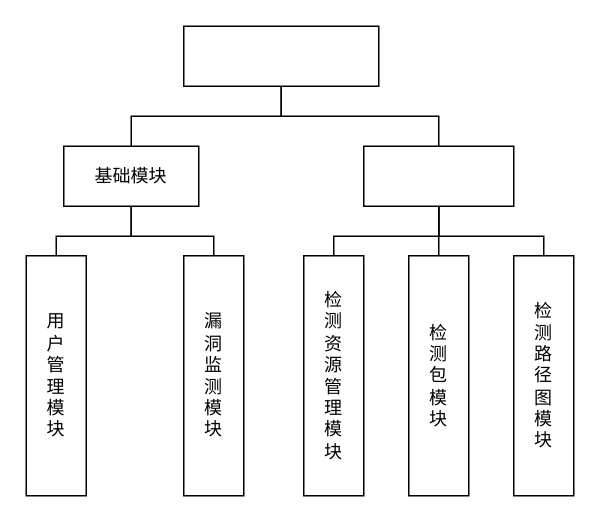
The diagram is 600 pixels wide and 522 high, and some of its shapes have lost their labels. The shapes that lost their labels are listed below. From the top down, each one's centre as x and y in pixels, then its label:
the point at 280,55: 漏洞检测系统
the point at 438,175: 核心模块
